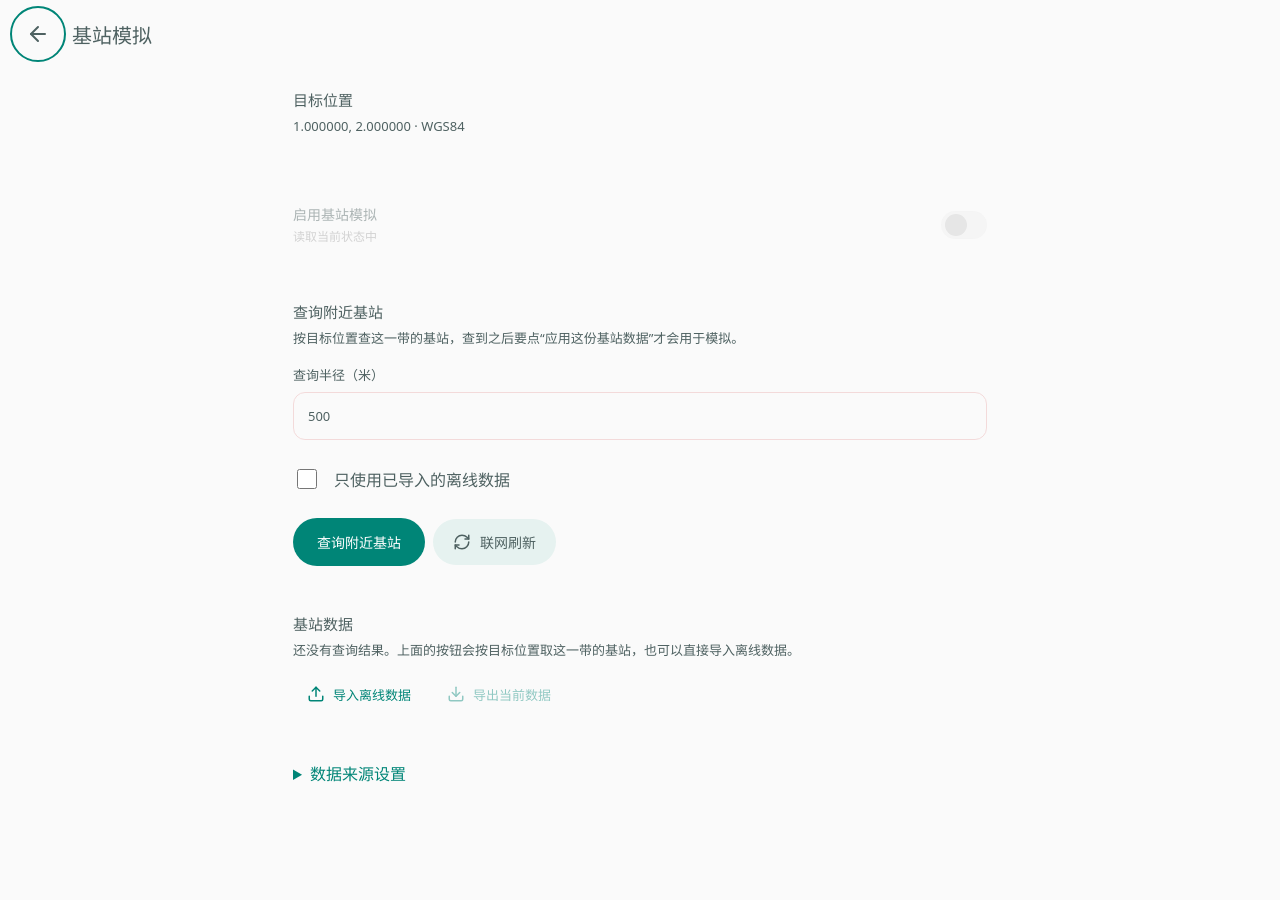
Test: queries the chosen target offline and shows a successful empty result with attribution
This screenshot has width=1280, height=900.
Click the checkbox labelled "只使用已导入的离线数据": coordinates (307, 479) 297,469 -> 317,489
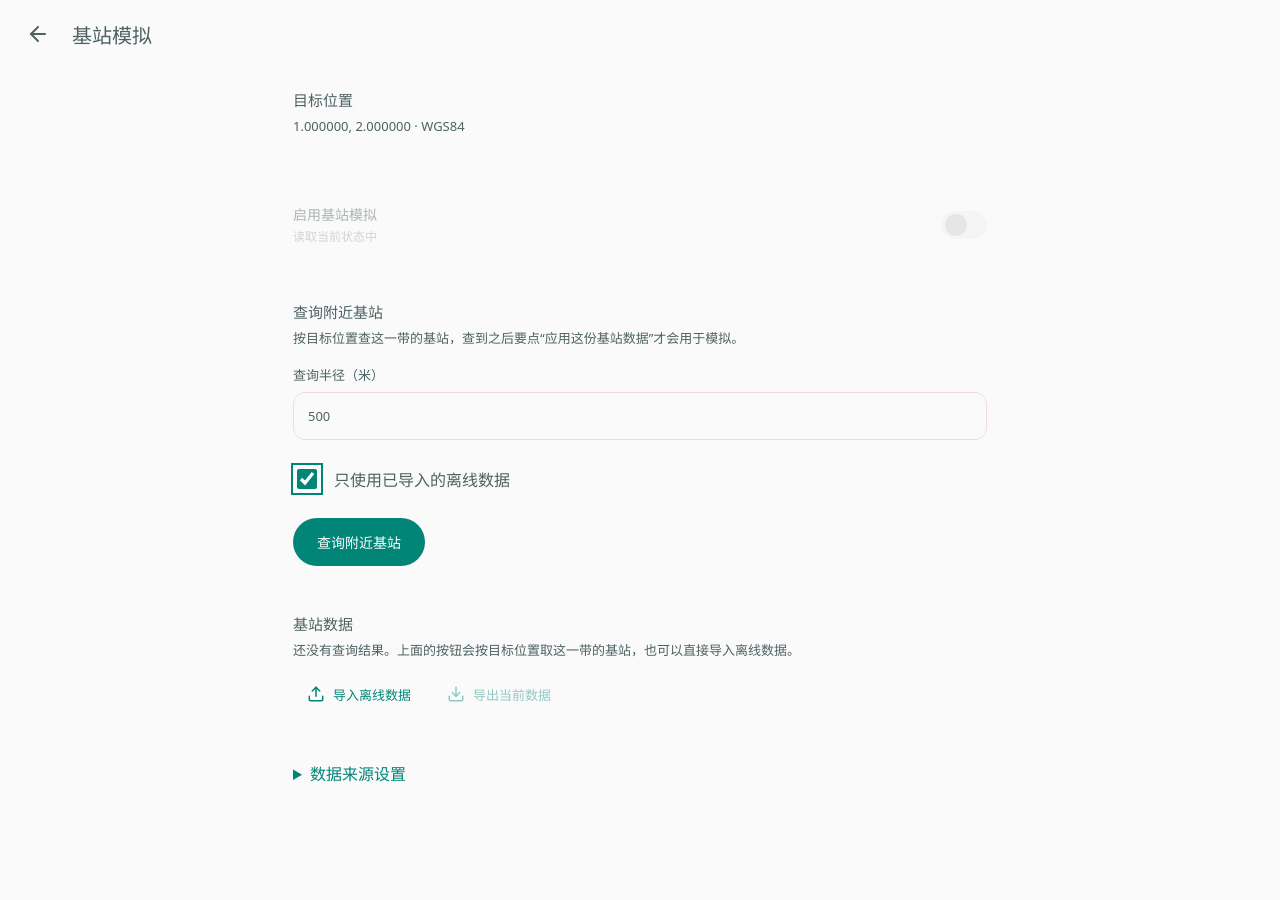
Click the button "查询附近基站": coordinates (359, 542) 293,518 -> 425,566
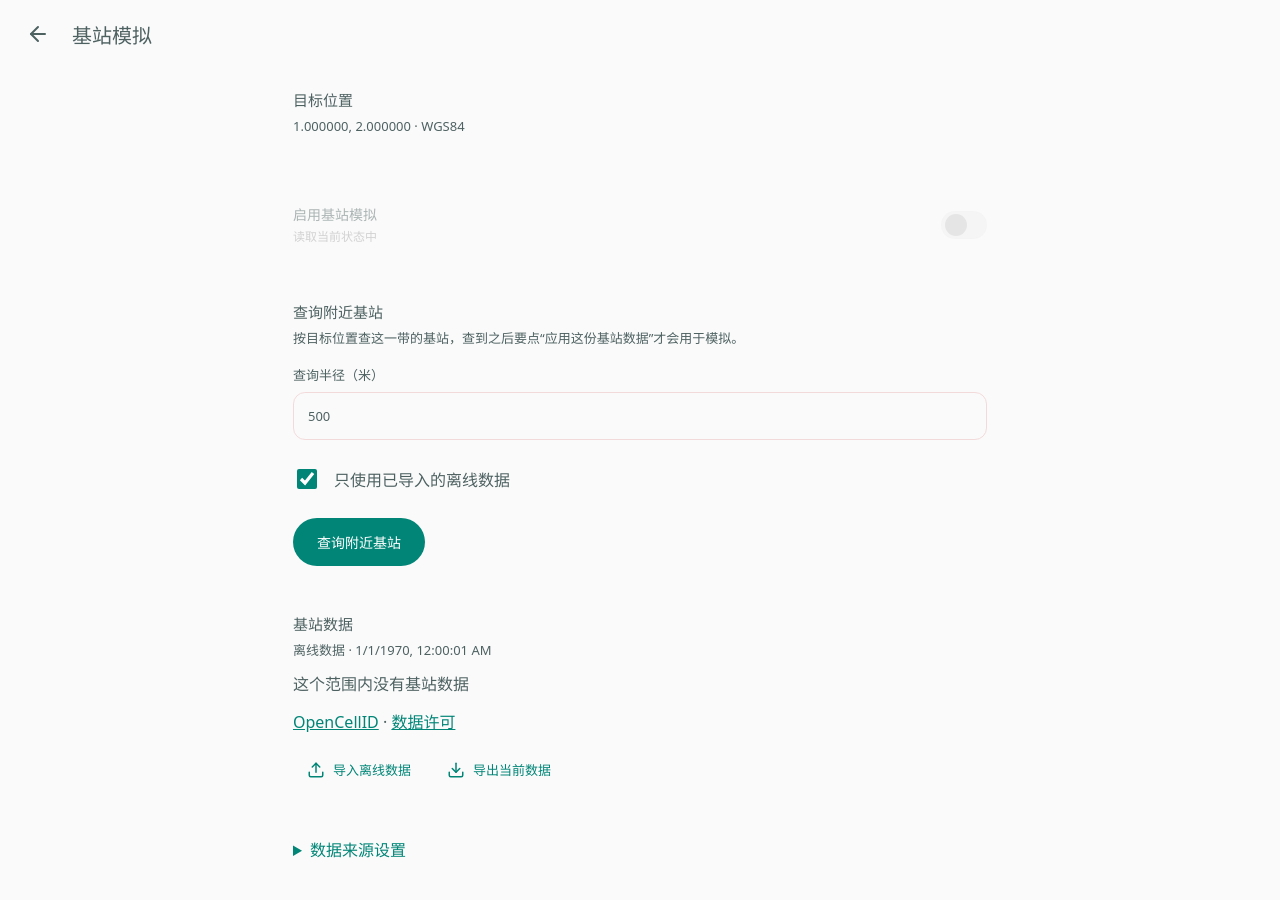
Now the text "这个范围内没有基站数据" is shown, box 293,673 -> 469,695
